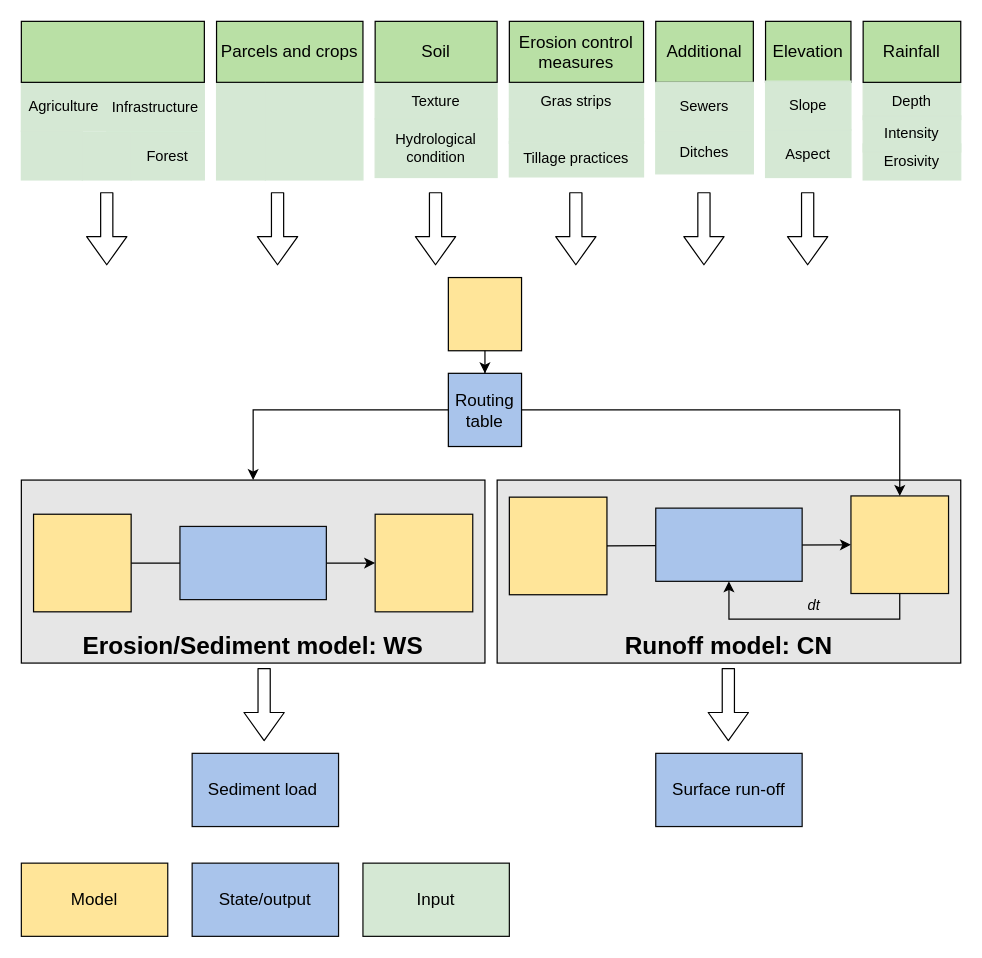
The diagram is 982 pixels wide and 958 high, and some of its shapes have lost their labels. The shapes that lost their labels are listed below. From the top down, each one's centre as x and y in pixels, then its label:
(x=112, y=51): Land cover
(x=240, y=131): Crop growth
(x=313, y=131): Parcel boundaries
(x=576, y=130): Buffers (dams, ..)
(x=51, y=155): Grass
(x=106, y=155): River
(x=484, y=313): Routing model
(x=81, y=562): Erosion model: WaTEM
(x=252, y=562): Potential soil loss
(x=423, y=562): Sediment-transport: SEDEM
(x=557, y=545): Run-off model: CN
(x=728, y=544): Runoff depth
(x=899, y=544): Spatial Distribution runoff
